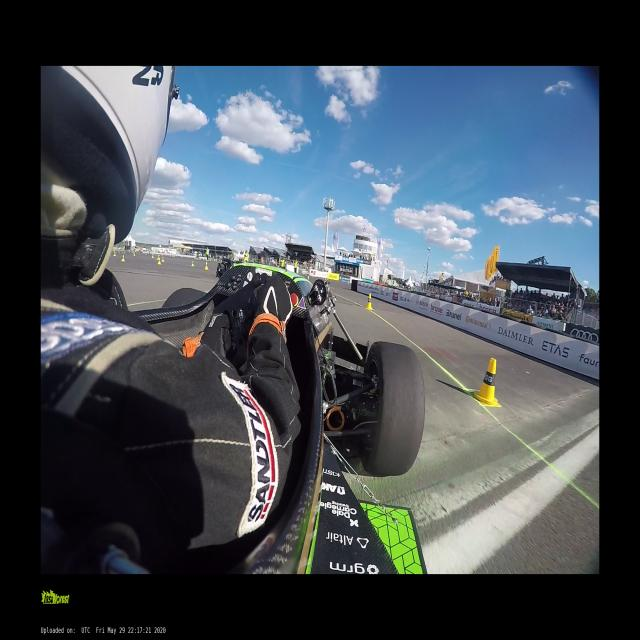yellow_cone: (474, 358, 502, 406), (364, 292, 373, 310), (204, 262, 208, 269), (120, 256, 125, 261), (190, 261, 194, 266), (158, 258, 161, 264), (162, 256, 164, 262), (113, 252, 116, 256), (151, 254, 154, 258)
